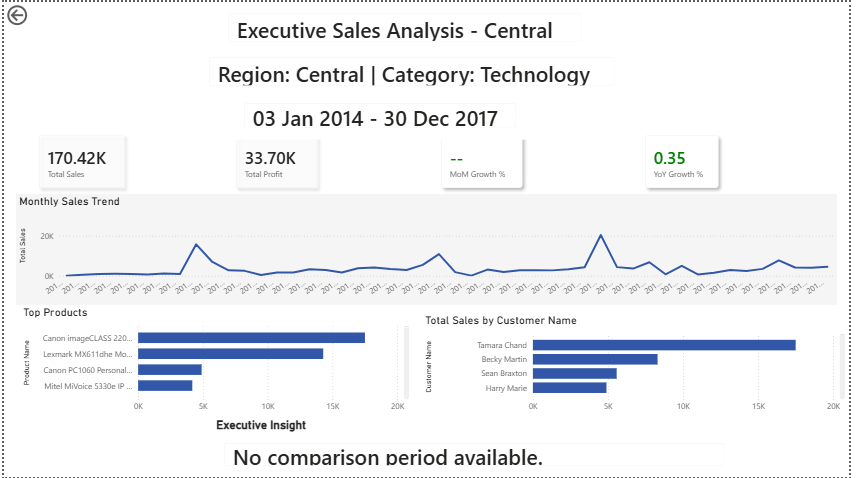

What the dashboard file says about the page in this screenshot:
{"tool":"powerbi","page":{"name":"Executive Sales Analysis","canvas":[1280,720],"ordinal":4},"visuals":[{"type":"actionButton","box":[0,0,100,40],"z":0},{"type":"cardVisual","fields":{"Data":["Measures (2).Total Sales"]},"box":[24.2,172.1,187.2,138.9],"z":1000},{"type":"cardVisual","fields":{"Data":["Measures (2).Total Profit"]},"box":[323,172.1,181.1,138.9],"z":2000},{"type":"cardVisual","fields":{"Data":["Measures (2).MoM Growth %"]},"box":[634,172.1,181.1,138.9],"z":3000},{"type":"cardVisual","fields":{"Data":["Measures (2).YoY Growth %"]},"box":[941.9,172.1,169.1,138.9],"z":4000},{"type":"lineChart","title":"Monthly Sales Trend","fields":{"Y":["Measures (2).Total Sales"],"Category":["Date Table.Year Month"]},"box":[17.9,290.4,1244.2,167.9],"z":5000},{"type":"clusteredBarChart","title":"Top Products","fields":{"Y":["Measures (2).Total Sales"],"Category":["Products.Product Name"]},"box":[24.2,458.9,594.7,172.1],"z":6000},{"type":"clusteredBarChart","fields":{"Category":["Customers.Customer Name"],"Y":["Measures (2).Total Sales"]},"box":[634,470.9,646,160],"z":7000},{"type":"cardVisual","title":"Executive Insight","fields":{"Data":["Measures (2).Executive Insight"]},"box":[316.6,630.4,792.8,90.8],"z":8000},{"type":"cardVisual","fields":{"Data":["Measures (2).Analysis Title"]},"box":[322.7,0,569.7,77.3],"z":9000},{"type":"cardVisual","fields":{"Data":["Measures (2).Selection Summary"]},"box":[294.5,66.1,648.3,78.5],"z":10000},{"type":"cardVisual","fields":{"Data":["Measures (2).Selected Date Range"]},"box":[347.2,135.8,446.8,72.5],"z":11000}]}

Visuals, with their boxes in screenshot pixels (x1, y1, x2, y2), scaled from the page's 1280x720 canvas onto the 857x478 screenshot:
actionButton: 0 0 67 27
cardVisual - Measures (2).Total Sales: 16 114 142 206
cardVisual - Measures (2).Total Profit: 216 114 338 206
cardVisual - Measures (2).MoM Growth %: 424 114 546 206
cardVisual - Measures (2).YoY Growth %: 631 114 744 206
"Monthly Sales Trend" lineChart: 12 193 845 304
"Top Products" clusteredBarChart: 16 305 414 419
clusteredBarChart - Customers.Customer Name x Measures (2).Total Sales: 424 313 856 419
"Executive Insight" cardVisual: 212 419 743 477
cardVisual - Measures (2).Analysis Title: 216 0 597 51
cardVisual - Measures (2).Selection Summary: 197 44 631 96
cardVisual - Measures (2).Selected Date Range: 232 90 532 138
